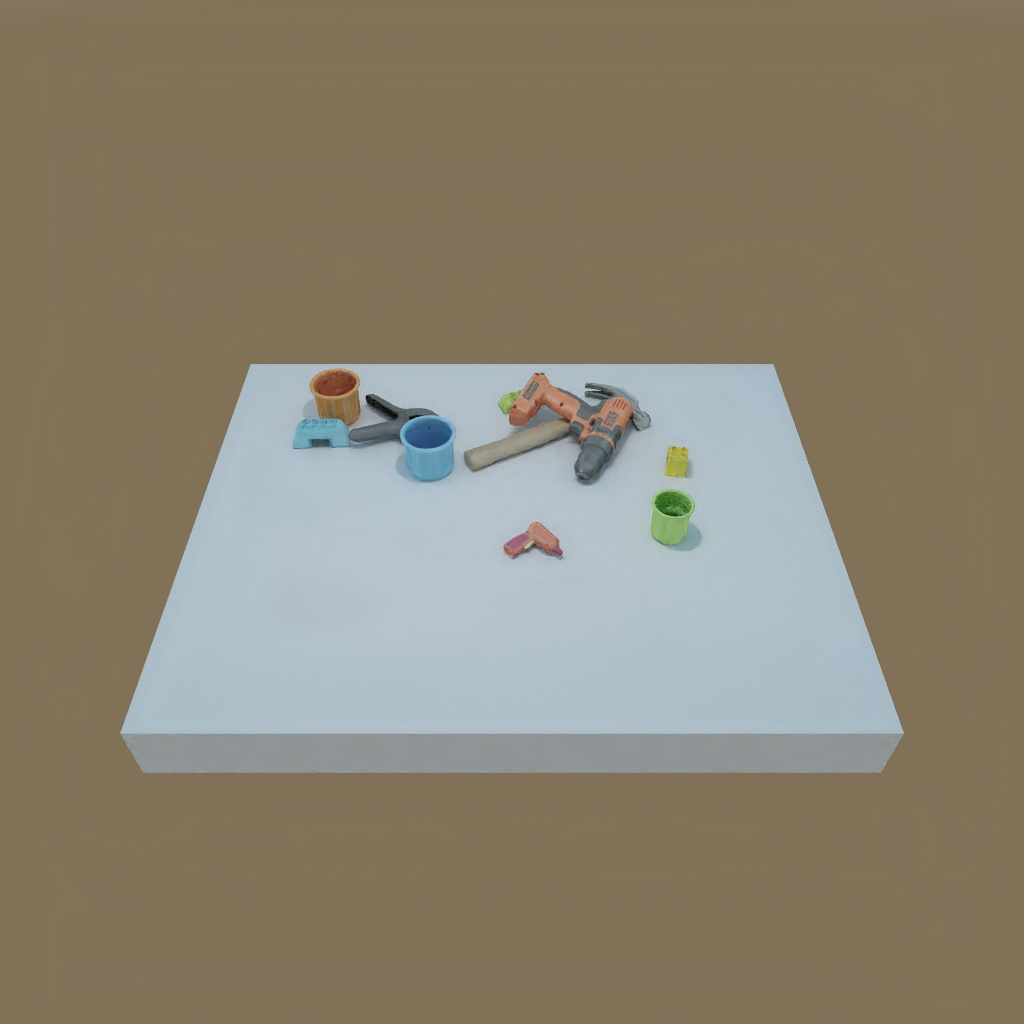hammer: (465, 378, 655, 461)
power_drill: (513, 372, 629, 481)
